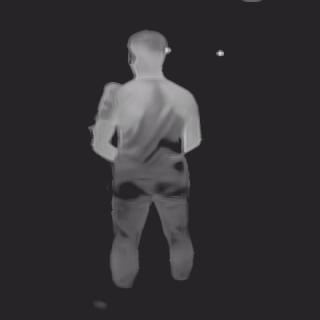Gun: (157, 137, 185, 173)
